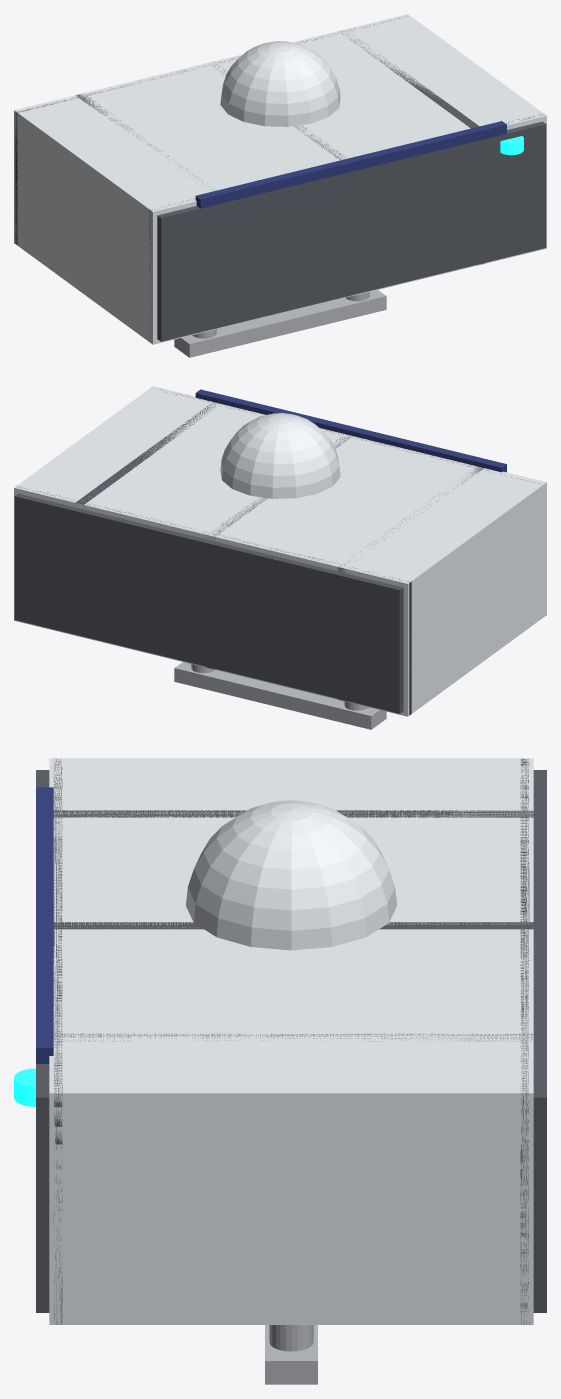
Rendered from fencegrid.glb.
The picture shows the model from 3 angles, top to bottom: view 1: azimuth 30°, elevation 25°; view 2: azimuth 150°, elevation 25°; view 3: azimuth 270°, elevation 25°; orthographic projection. The views are drawn at different scales.
Visible parts, largest first — view 1: Main_Housing, Front_Cover, Antenna_Radome, U-Bolt_Mount, Solar_Strip, Housing_Ribs, Gasket_Seal; view 2: Main_Housing, Rear_Housing, Antenna_Radome, U-Bolt_Mount, Solar_Strip, Housing_Ribs, Gasket_Seal; view 3: Main_Housing, Antenna_Radome, Rear_Housing, Housing_Ribs, Gasket_Seal, Solar_Strip, Front_Cover, U-Bolt_Mount, Status_LED.
Boxes of the visible parts, bbox=[...] form: Main_Housing: bbox=[14, 14, 546, 344]; Front_Cover: bbox=[157, 121, 546, 341]; Antenna_Radome: bbox=[220, 41, 340, 126]; U-Bolt_Mount: bbox=[174, 290, 386, 357]; Solar_Strip: bbox=[195, 121, 506, 219]; Housing_Ribs: bbox=[76, 30, 484, 297]; Gasket_Seal: bbox=[15, 16, 543, 337]; Main_Housing: bbox=[14, 386, 546, 716]; Rear_Housing: bbox=[14, 493, 403, 713]; Antenna_Radome: bbox=[220, 413, 340, 498]; U-Bolt_Mount: bbox=[174, 662, 386, 729]; Solar_Strip: bbox=[195, 389, 506, 472]; Housing_Ribs: bbox=[75, 402, 483, 701]; Gasket_Seal: bbox=[16, 388, 539, 715]; Main_Housing: bbox=[49, 758, 533, 1324]; Antenna_Radome: bbox=[185, 800, 397, 950]; Rear_Housing: bbox=[533, 770, 546, 1312]; Housing_Ribs: bbox=[53, 810, 533, 1041]; Gasket_Seal: bbox=[53, 758, 529, 1324]; Solar_Strip: bbox=[36, 787, 53, 1063]; Front_Cover: bbox=[36, 770, 49, 1312]; U-Bolt_Mount: bbox=[265, 1325, 317, 1384]; Status_LED: bbox=[14, 1068, 35, 1106].
Bounding box in the file's own units: 0.18 × 0.123 × 0.121.
